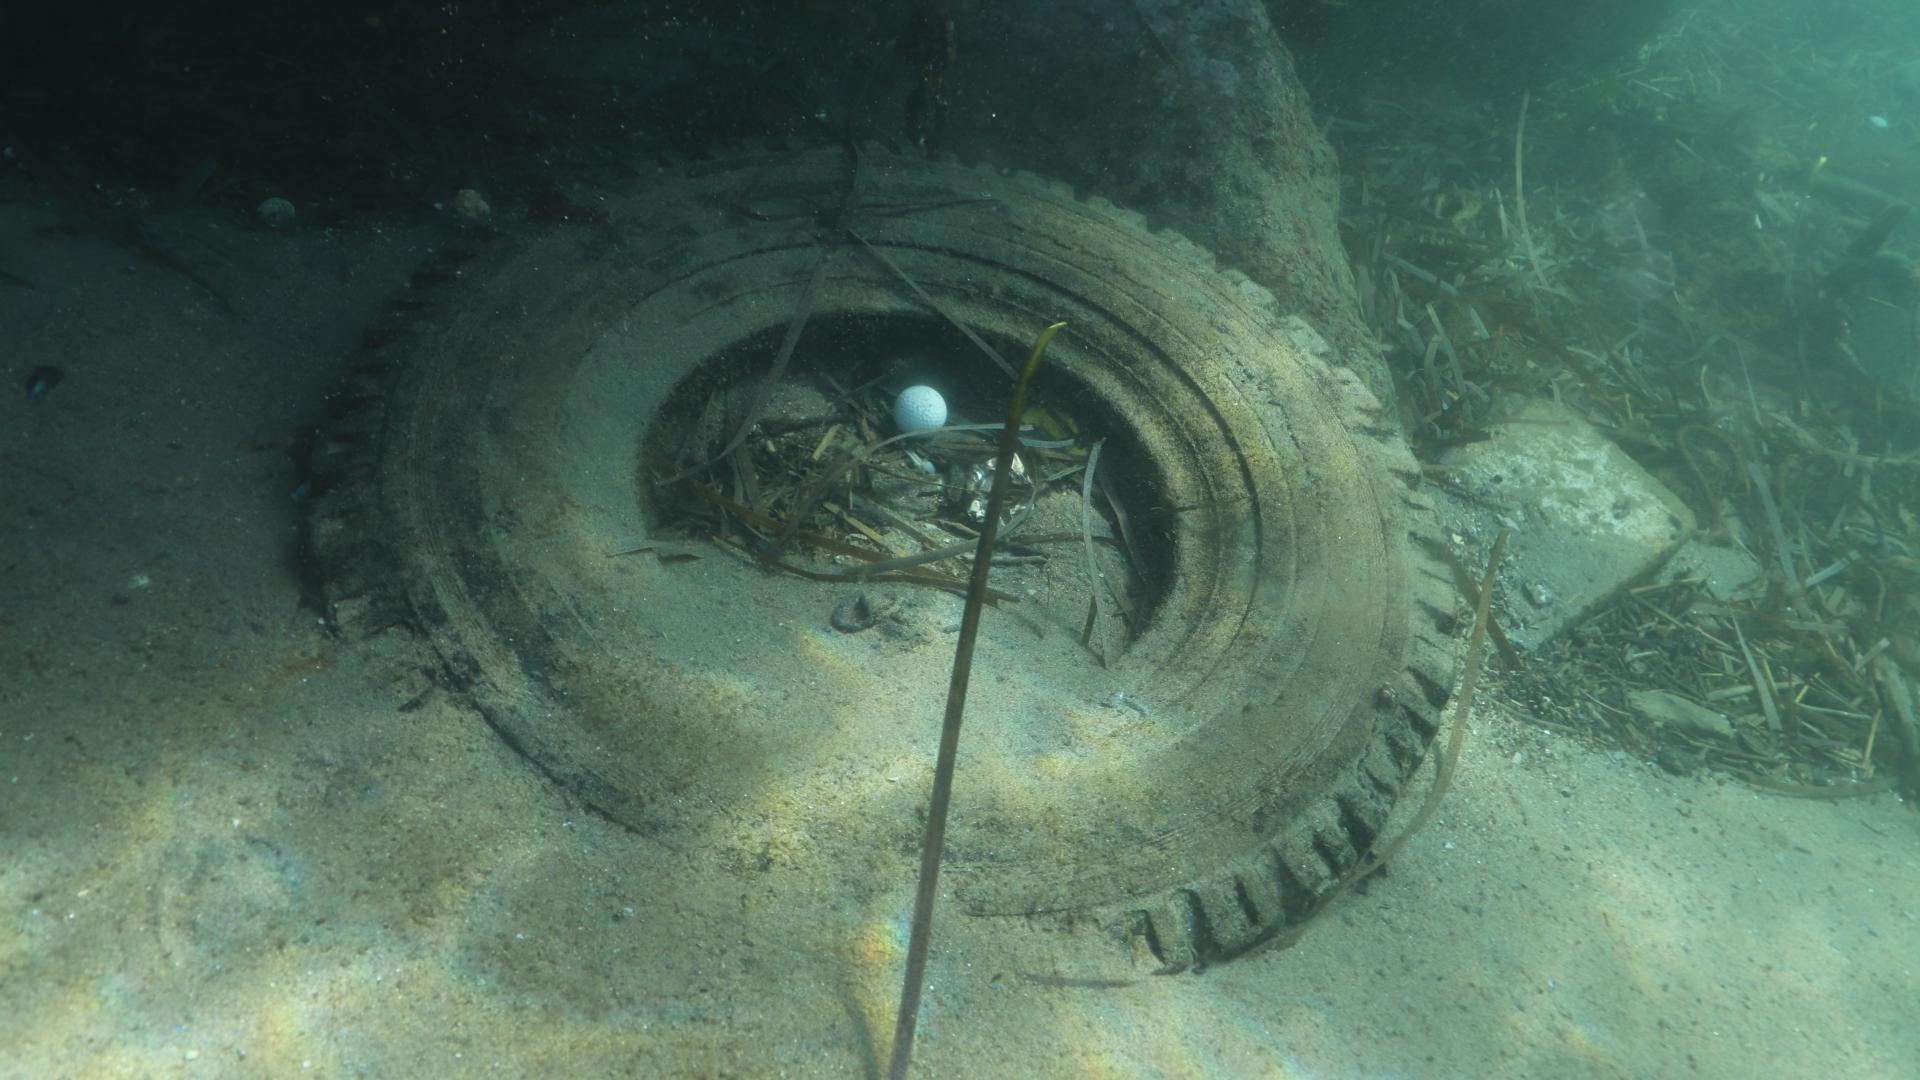tire: (295, 149, 1455, 985)
